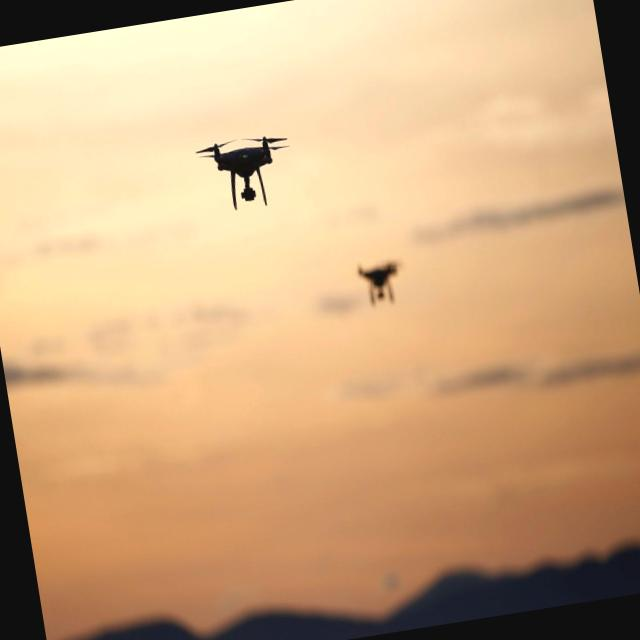drone: (195, 128, 299, 220), (353, 256, 408, 312)
